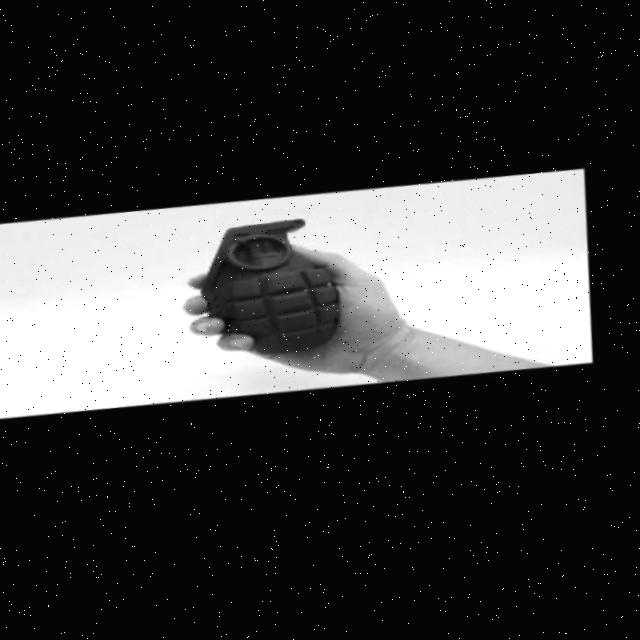grenade: (177, 204, 359, 379)
